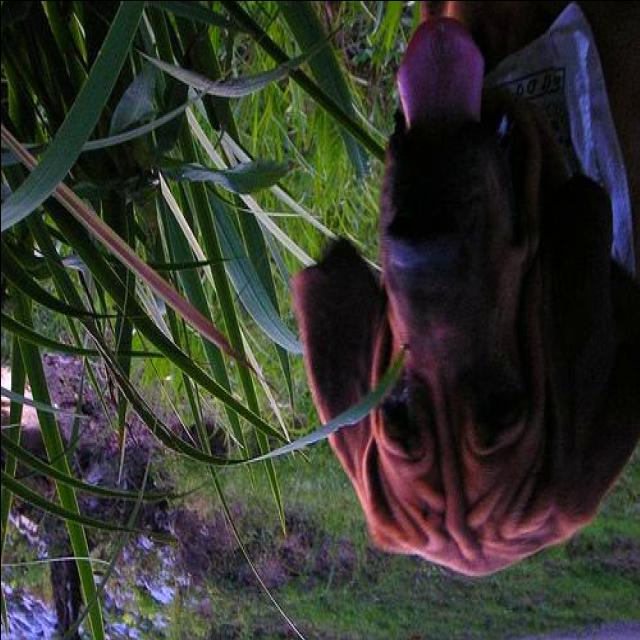bloodhound: (286, 2, 638, 582)
